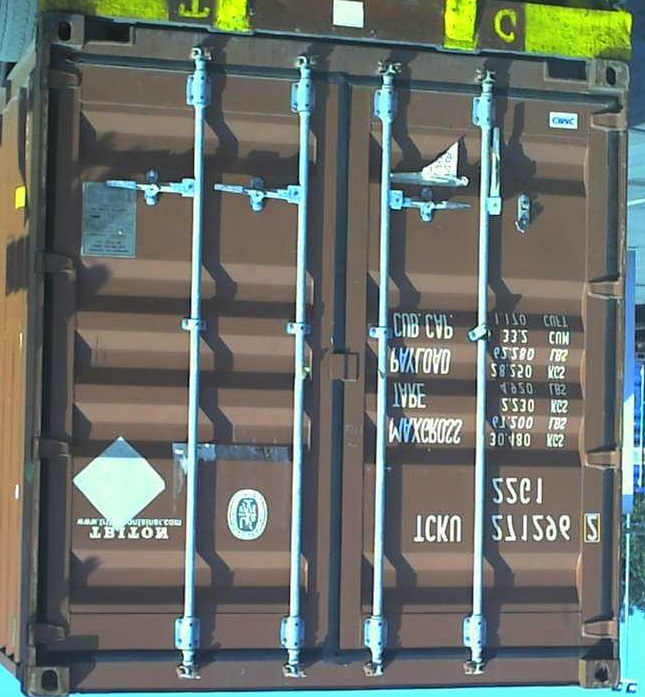container_door: (22, 12, 629, 695)
